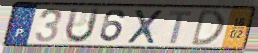3: (34, 7, 64, 43)
6: (99, 9, 127, 44)
D: (189, 8, 226, 48)
T: (168, 10, 194, 45)
U: (63, 6, 102, 45)
X: (125, 8, 166, 46)
